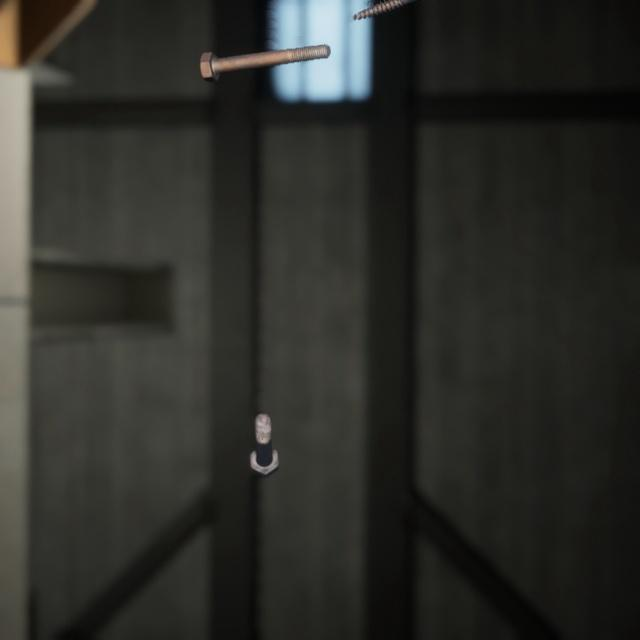bolt: (195, 28, 335, 76), (245, 387, 283, 461)
